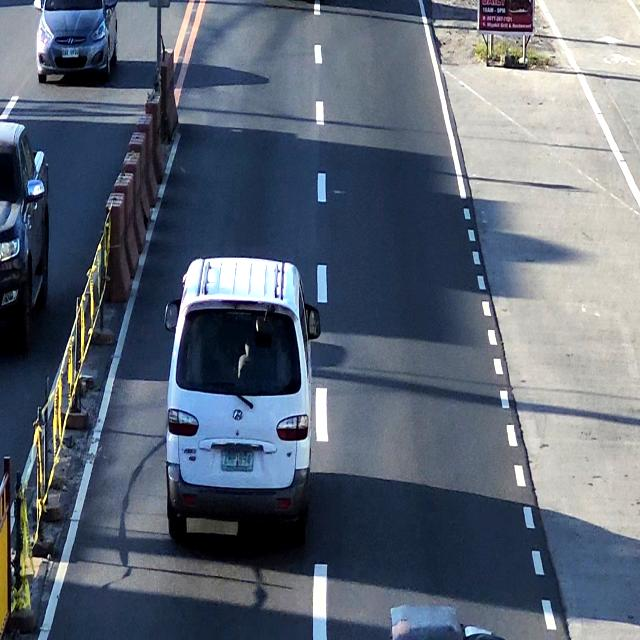Car: (164, 258, 310, 543)
License-Plate: (220, 443, 255, 478)
Tricycle: (385, 600, 510, 640)
